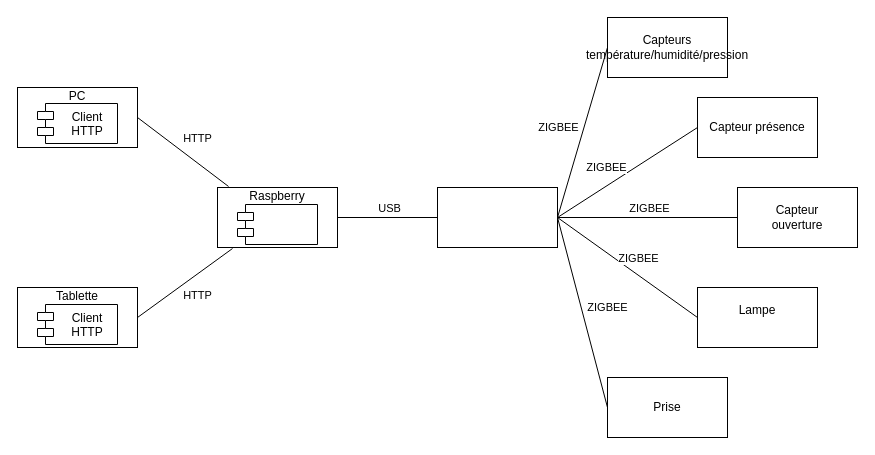
Some shapes in this 875 by 455 pixel diagram are drawn without their labels. The shapes that lost their labels are listed below. From the top down, each one's centre as x and y in pixels, then its label:
the point at 277,224: Serveur HTTP
the point at 497,217: clé zigbee
